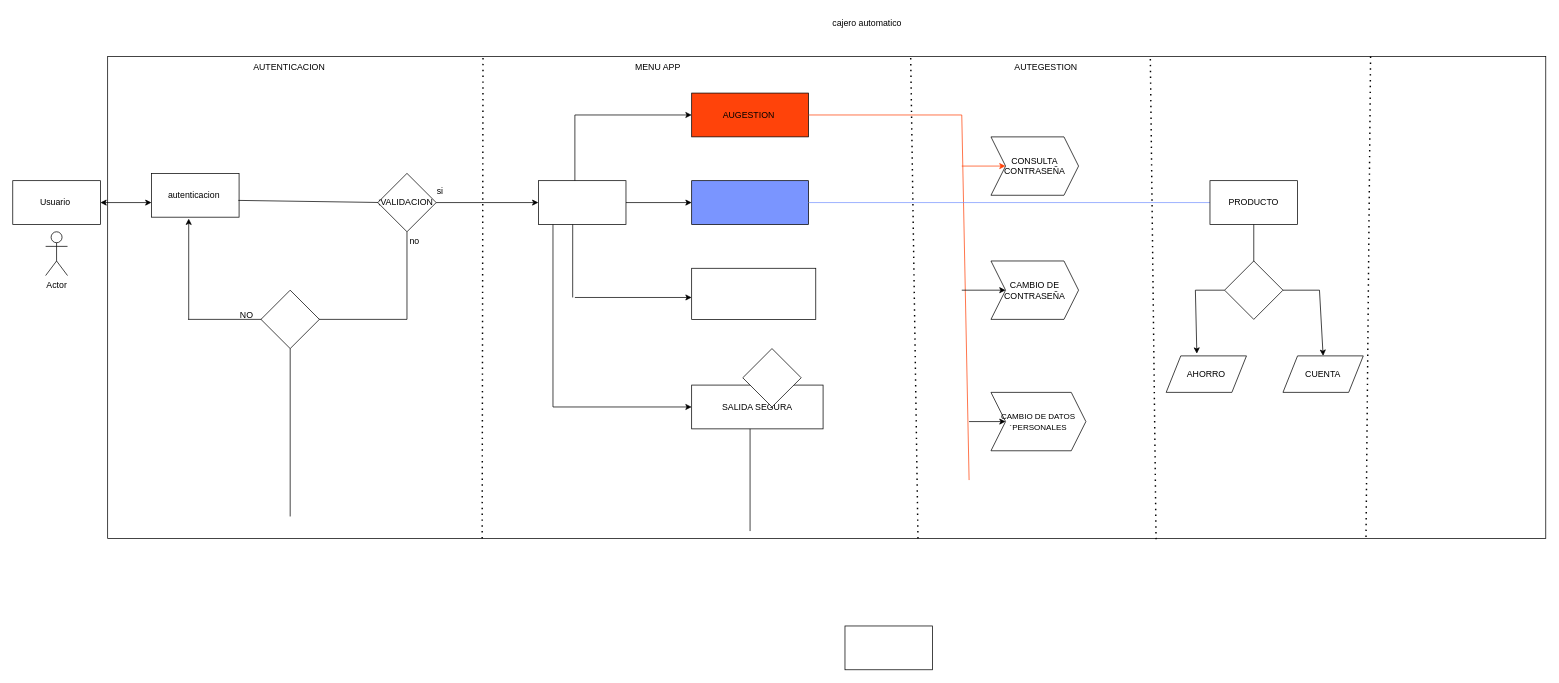
The diagram is 1559 pixels wide and 683 high, and some of its shapes have lost their labels. The centre of each missing label's shape, as x and y in pixels:
"CONSULTA" belongs at (x=749, y=202).
"DECISION" belongs at (x=1253, y=289).
"intento<=3" belongs at (x=289, y=319).
"MENU" belongs at (x=582, y=202).
"SALIDA" belongs at (x=888, y=647).
"TRANSACCIONALIDAD" belongs at (x=753, y=293).
